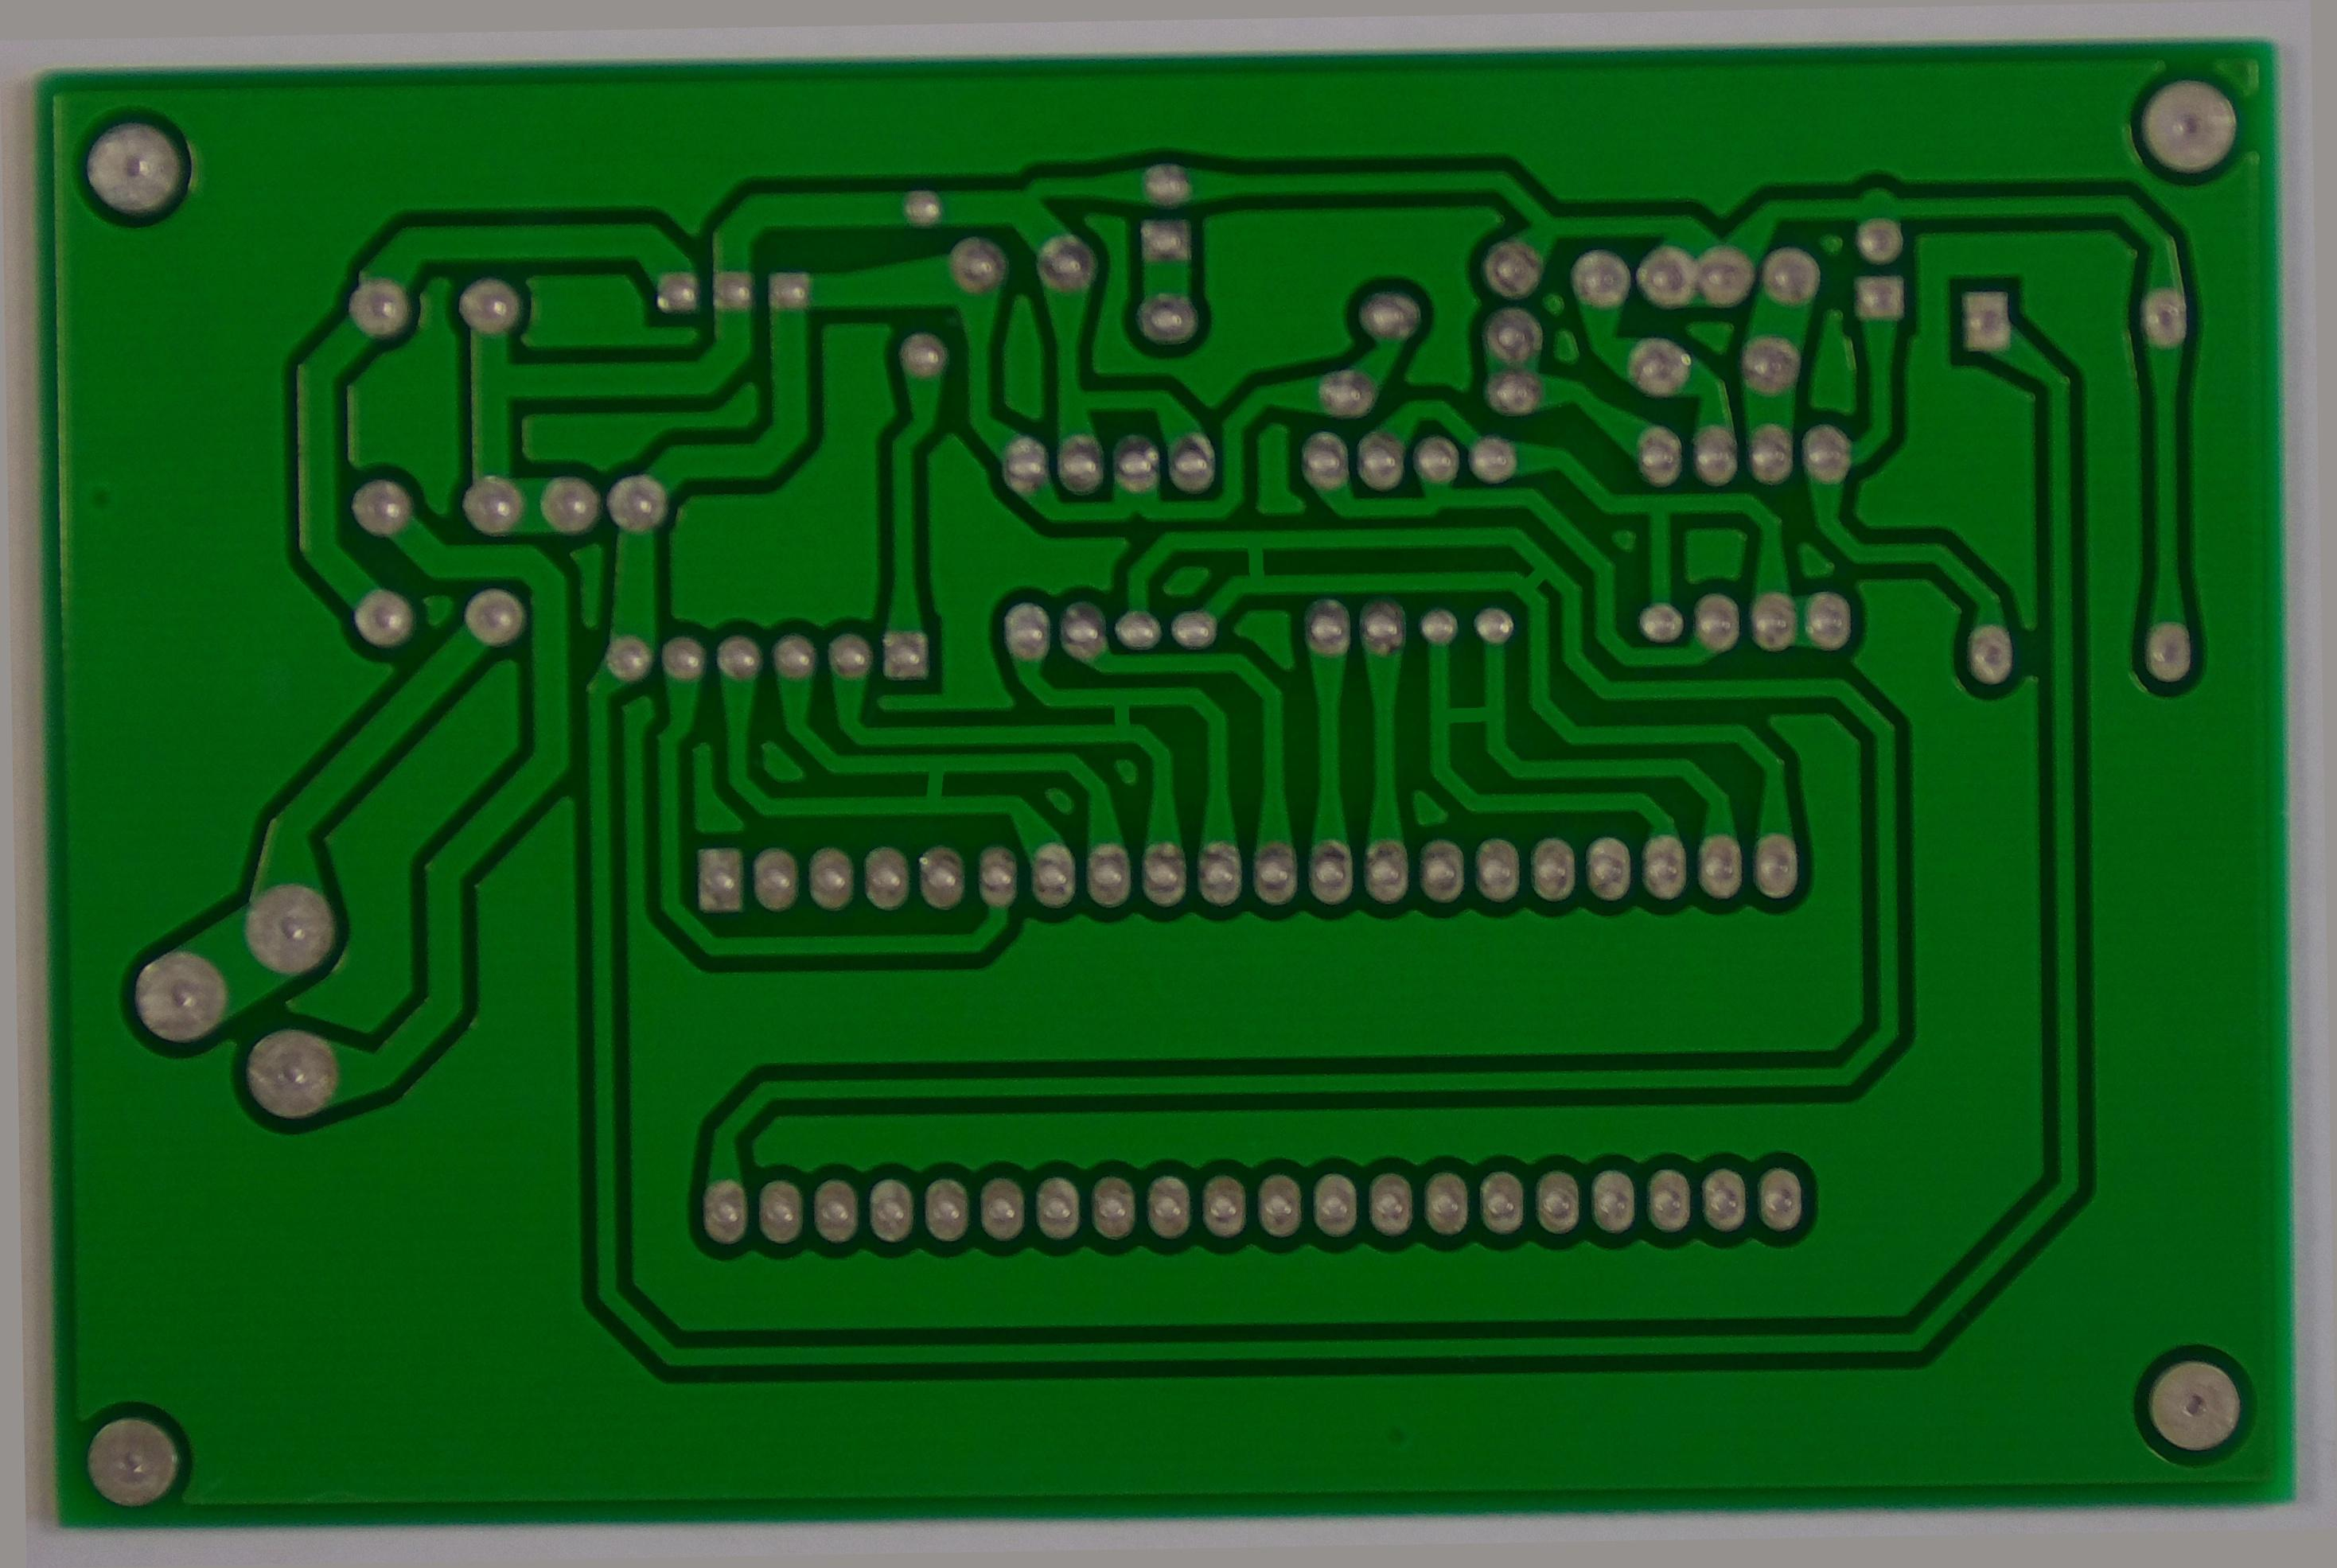short: (1421, 684, 1518, 756), (1080, 677, 1166, 752), (1218, 520, 1299, 598), (893, 744, 977, 819), (1500, 551, 1567, 611)
